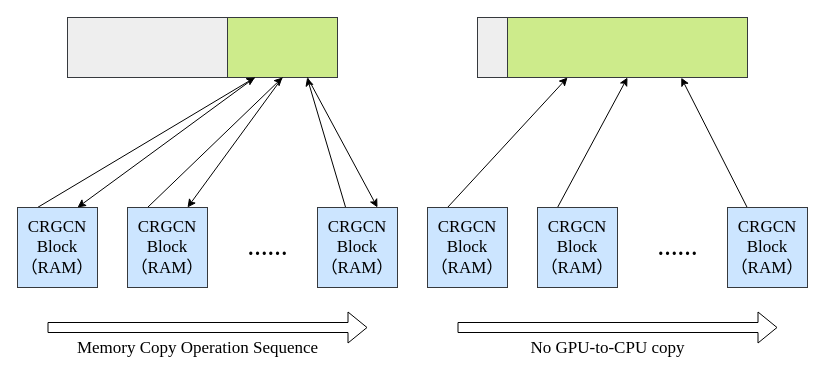
Image size: 825x375. Some labels were removed from this diagram. Here are the shapes that lost their labels. From the top down, the centre of each, then its label:
point 282,47: Limited GRAM
point 627,47: Adequate GRAM
